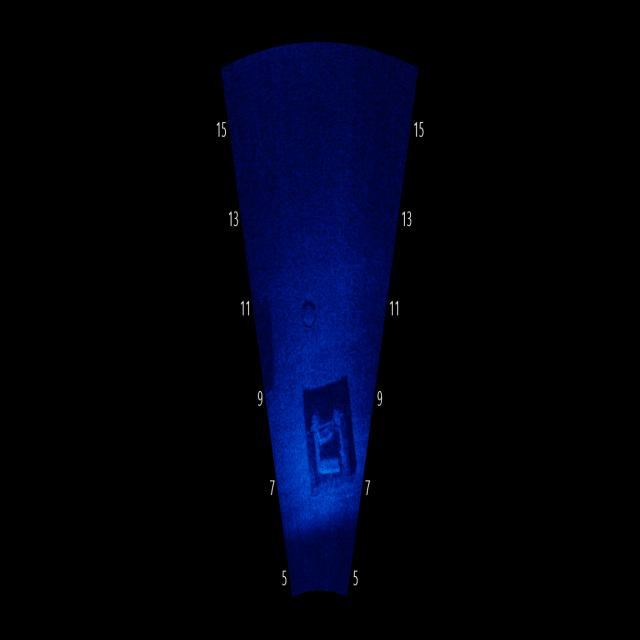square: (301, 378, 364, 516)
